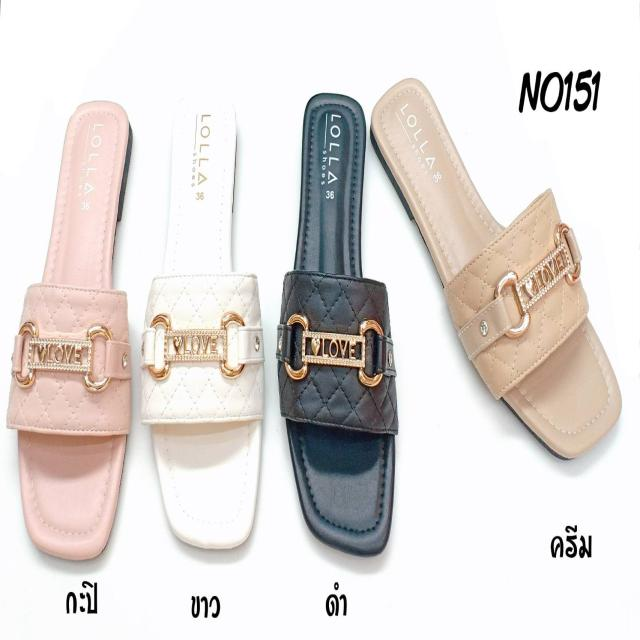black: (278, 89, 401, 554)
cream: (372, 71, 618, 467)
kapi: (16, 98, 141, 567)
white: (143, 113, 268, 544)
